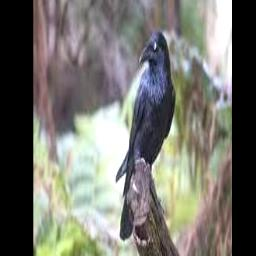Crow: (116, 31, 176, 197)
